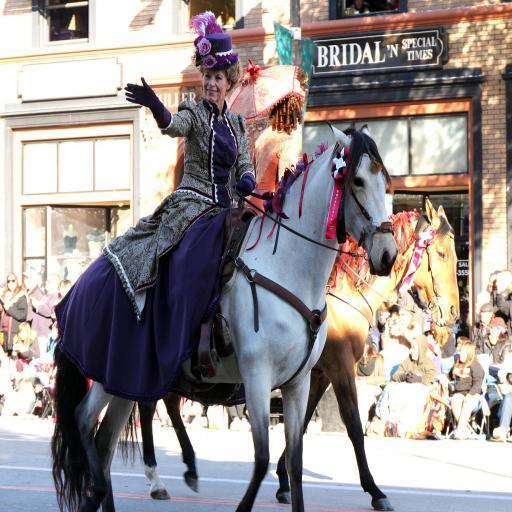horse: (114, 194, 460, 512)
